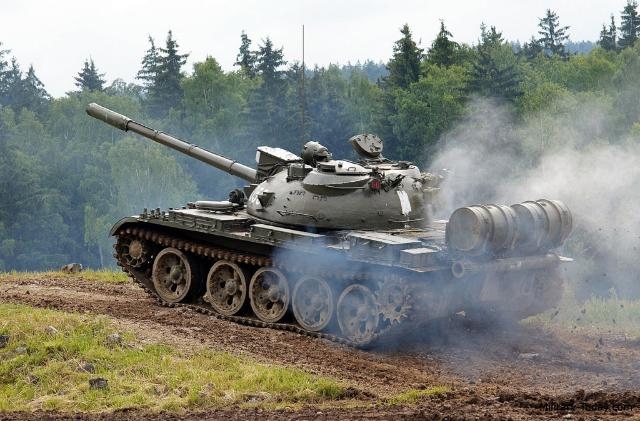tank: (117, 128, 567, 321)
